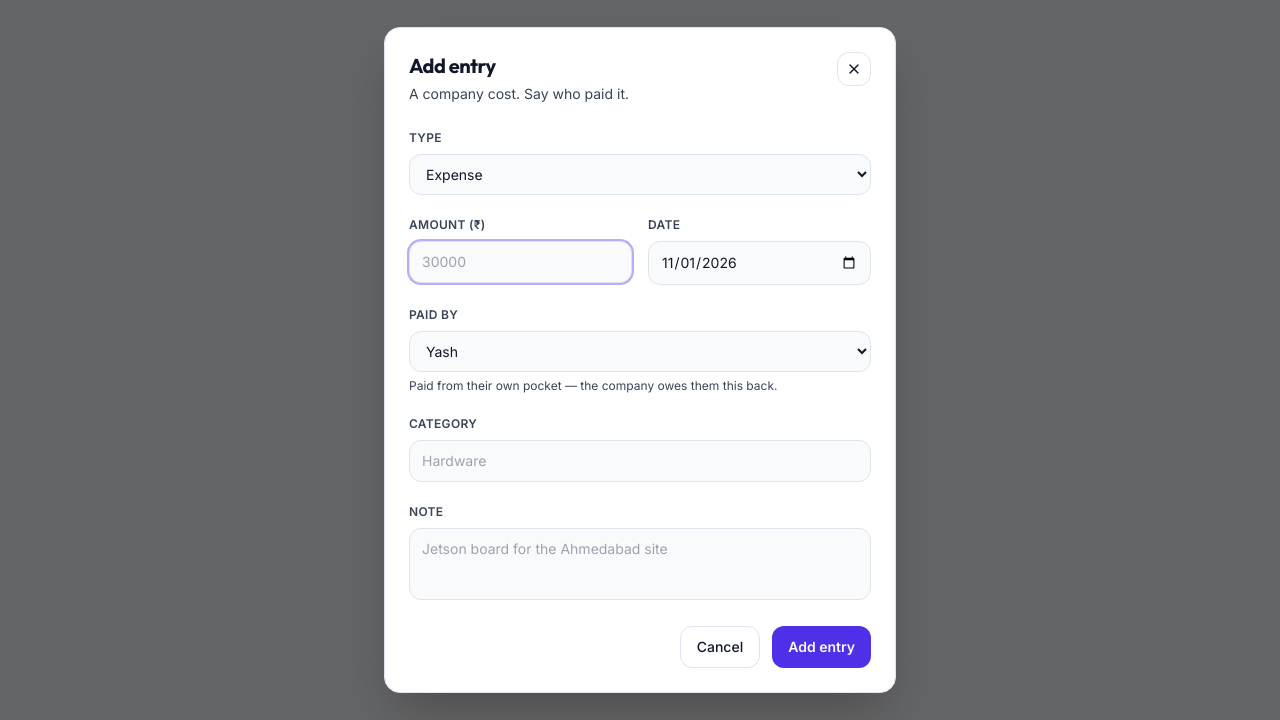
Scenario: FundEntryDialog › refuses to save a negative amount
The width and height of the screenshot is (1280, 720).
Type "-500" into the field labelled "Amount (₹)" at (520, 262), box top-left (409, 241), bottom-right (632, 283)
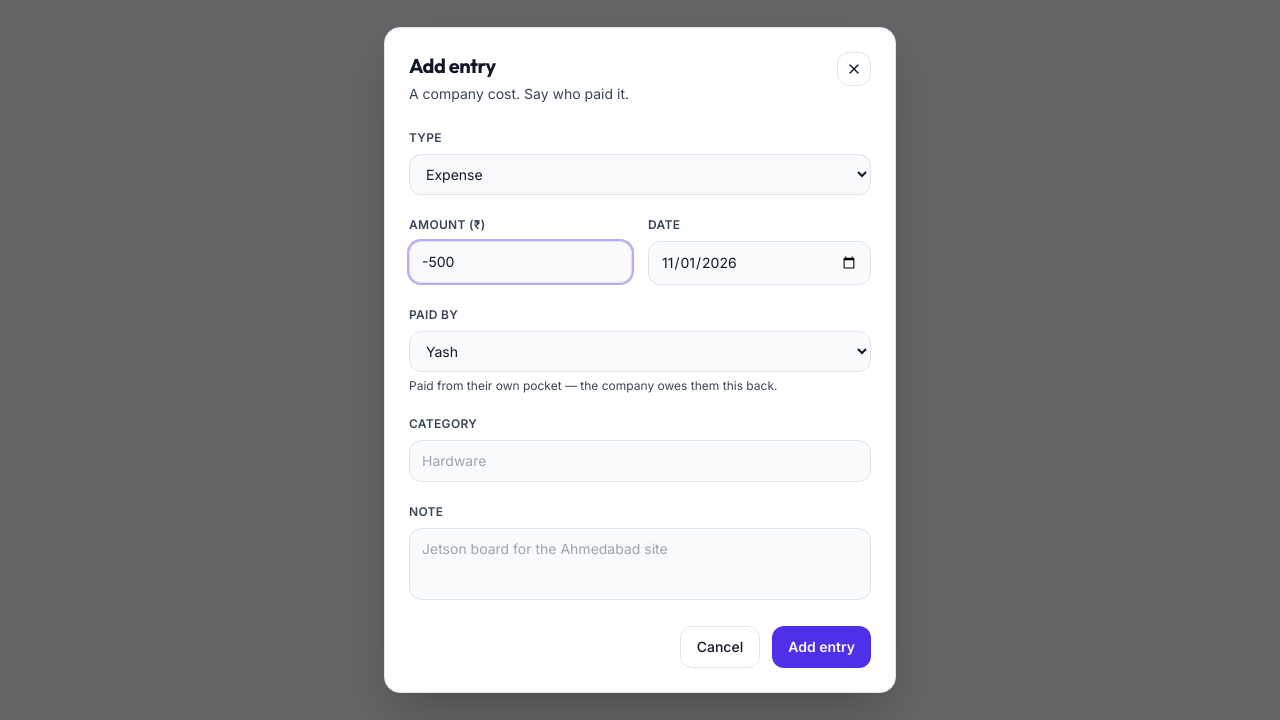
Click the button "Add entry" at (822, 647), box top-left (772, 626), bottom-right (871, 668)
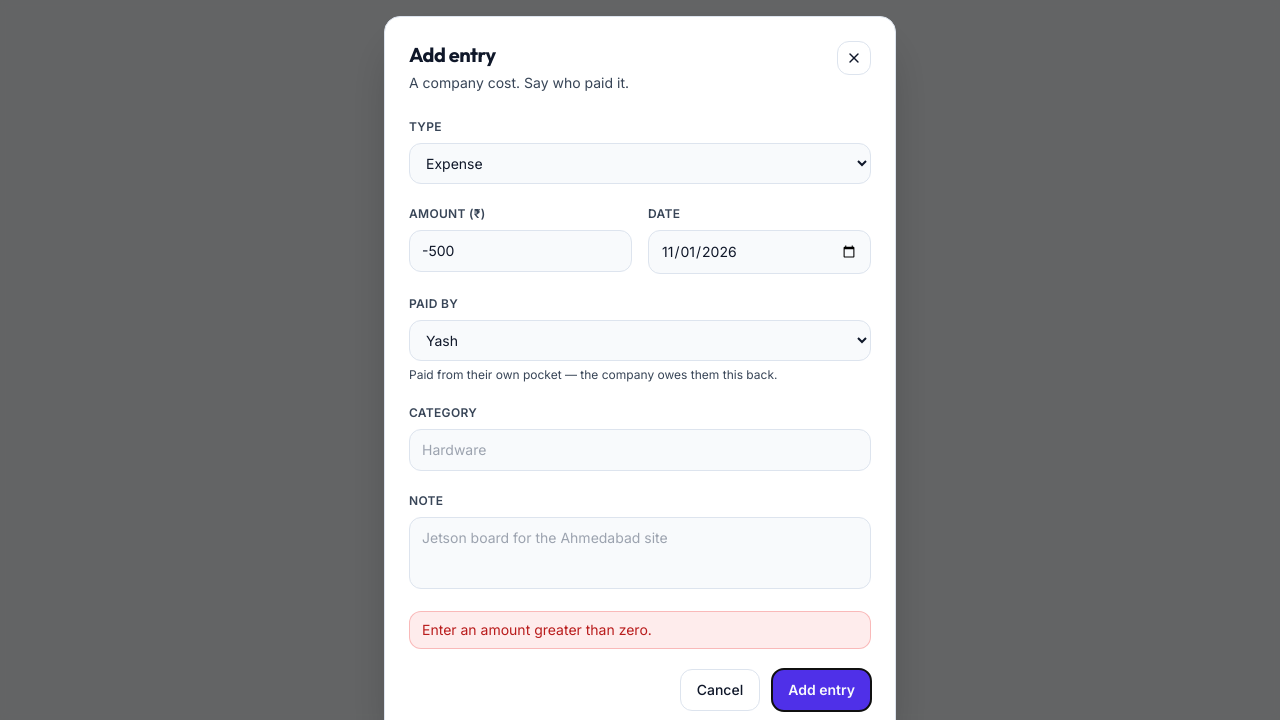
Result: the text "Enter an amount greater than zero." is shown at top-left (409, 611), bottom-right (871, 649)
